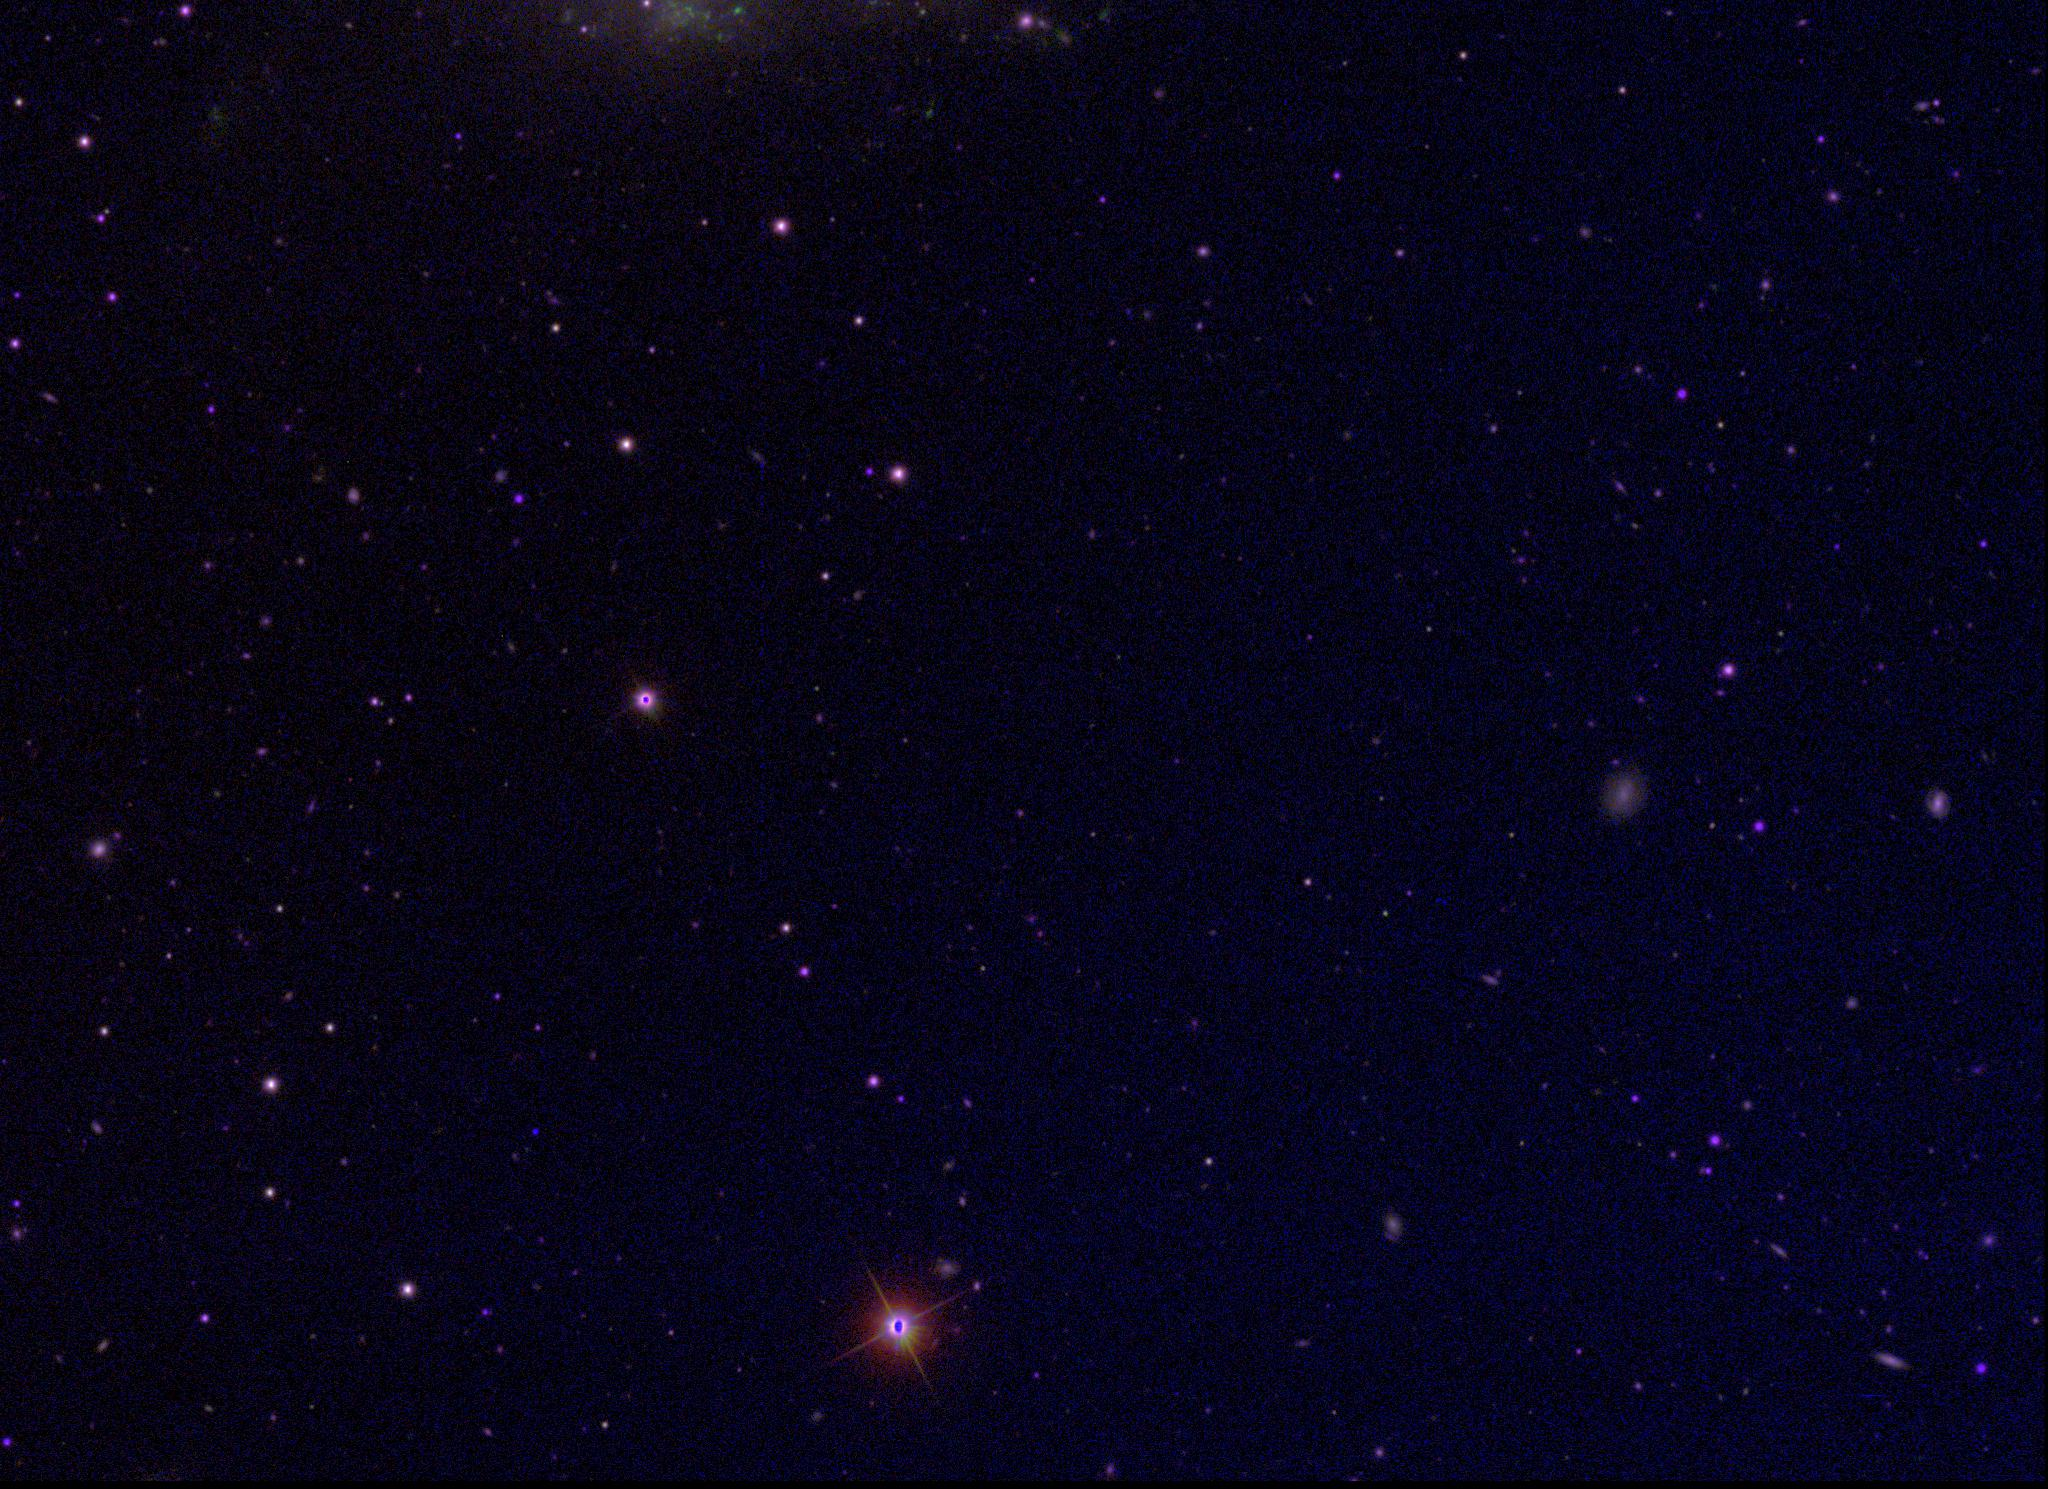L: (528, 1125, 542, 1139)
